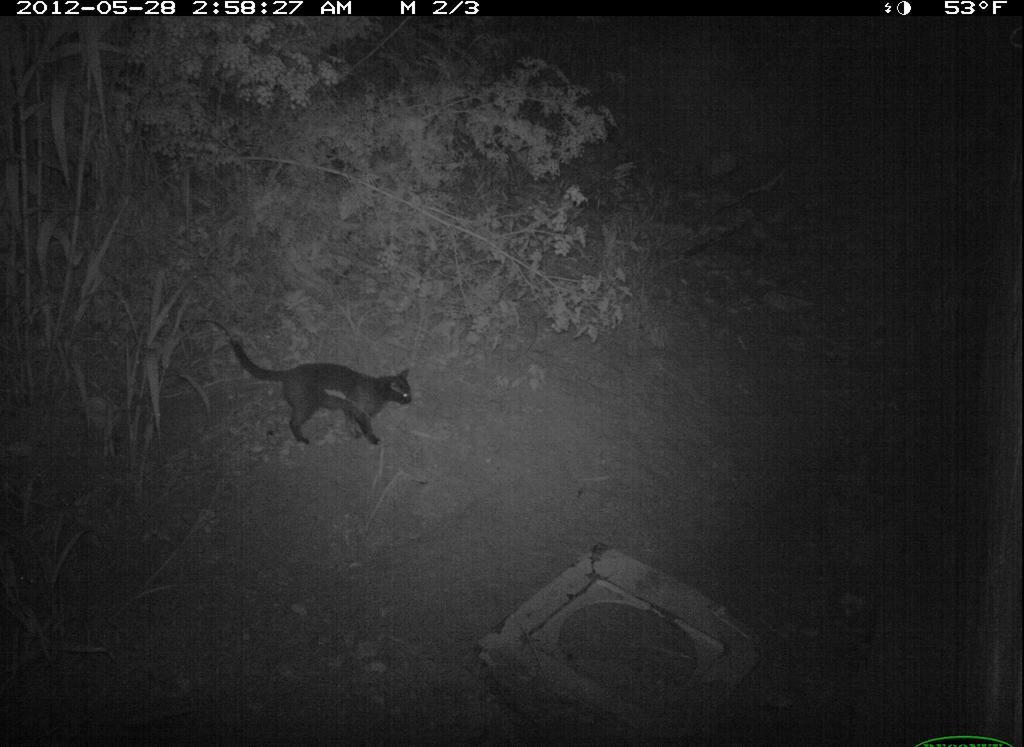cat: (226, 328, 420, 461)
